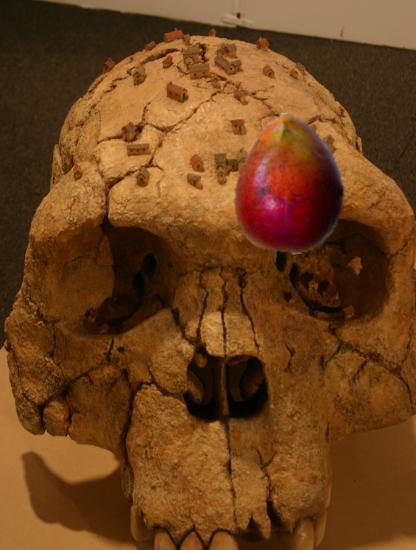Mango: (217, 113, 359, 255)
